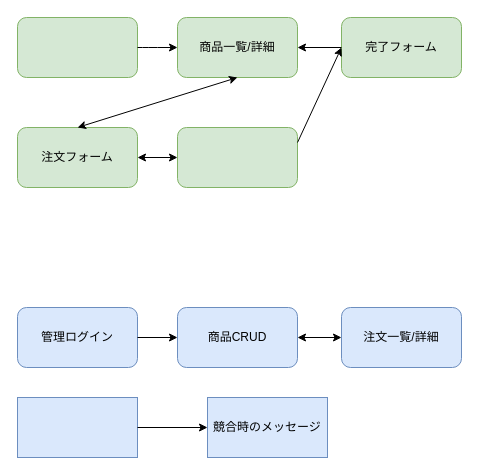
Some shapes in this 479 by 475 pixel diagram are drawn without their labels. The shapes that lost their labels are listed below. From the top down, each one's centre as x and y in pixels, then its label:
At (77,47): "年齢確認画面".
At (237,157): "確認フォーム".
At (77,427): "在庫の楽観ロックを有効化".
